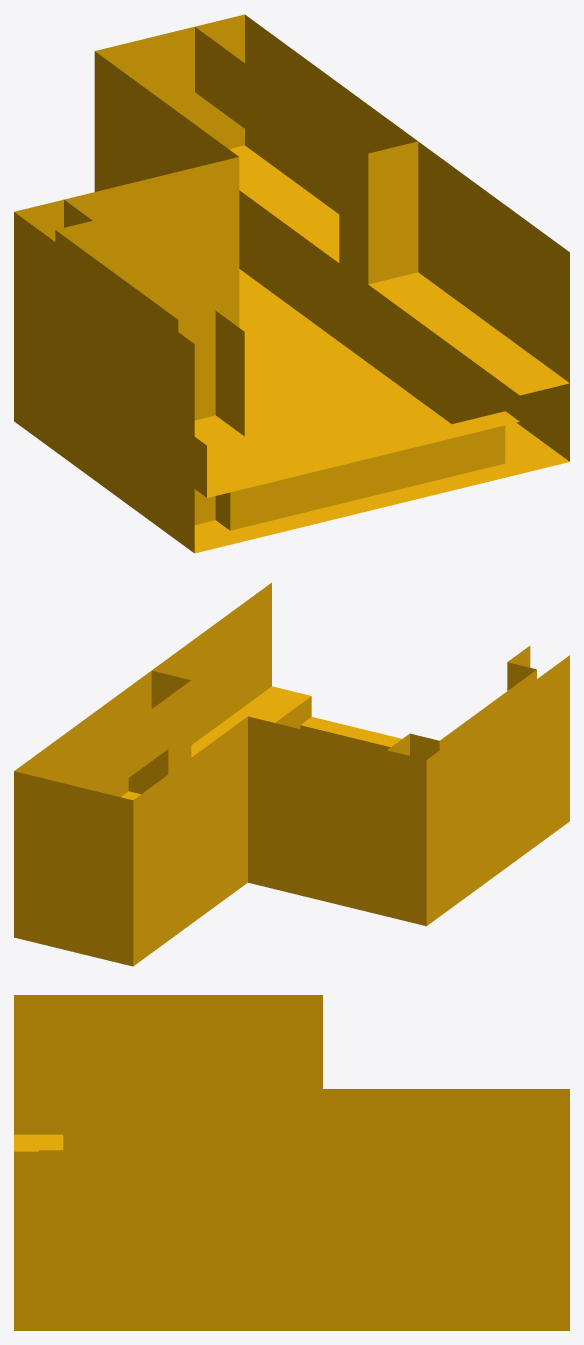
The model's file is room-v1.glb.
The picture shows the model from 3 angles, top to bottom: view 1: azimuth 30°, elevation 25°; view 2: azimuth 150°, elevation 25°; view 3: azimuth 270°, elevation 25°; orthographic projection. The views are drawn at different scales.
Parts seen in each view (by area): view 1: wall, cabinet, floor, door; view 2: wall, cabinet, door; view 3: wall, cabinet.
Part boxes in pixels (x1=…): wall: x1=14, y1=14, x2=569, y2=553; cabinet: x1=55, y1=27, x2=569, y2=530; floor: x1=194, y1=269, x2=569, y2=553; door: x1=131, y1=61, x2=194, y2=123; wall: x1=14, y1=582, x2=569, y2=966; cabinet: x1=54, y1=645, x2=536, y2=799; door: x1=53, y1=809, x2=113, y2=961; wall: x1=14, y1=995, x2=569, y2=1330; cabinet: x1=14, y1=1000, x2=569, y2=1151.
Size of the model in its own units: 15 by 8 by 22.5.
